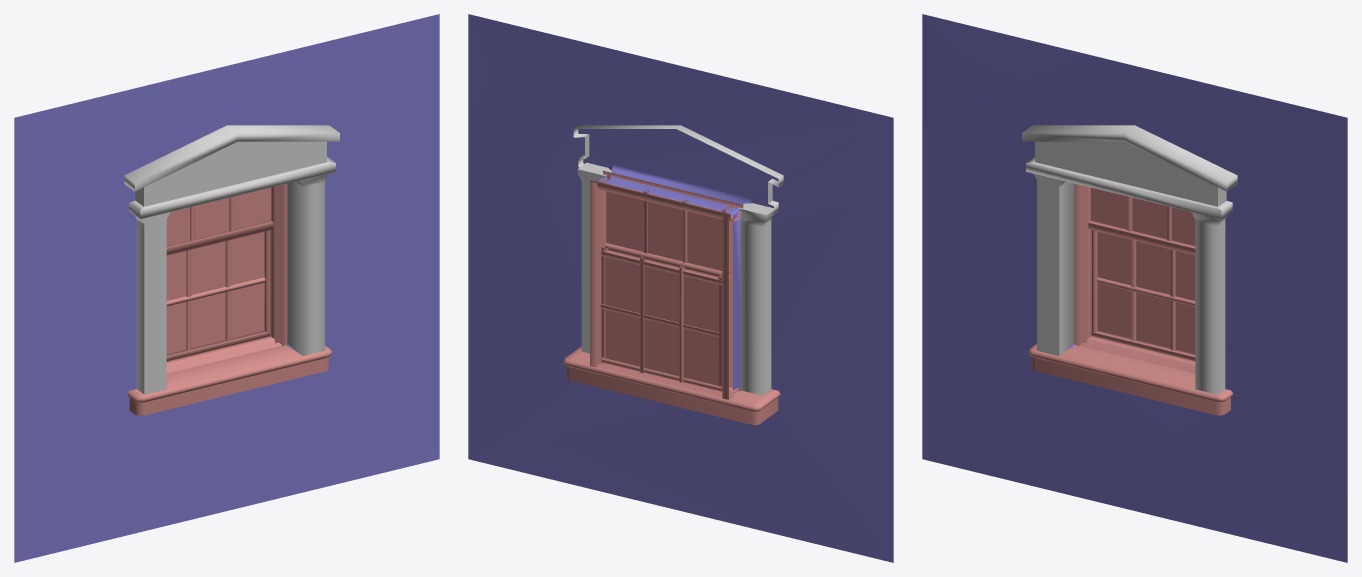
File: window_08.fbx
3 renders of one model, left to right at view 1: azimuth 30°, elevation 25°; view 2: azimuth 150°, elevation 25°; view 3: azimuth 330°, elevation 25°, orthographic.
Visible parts, largest first — view 1: Plane.027, Plane.028, Cube.042; view 2: Plane.027, Plane.028, Cube.042; view 3: Plane.027, Plane.028, Cube.042.
Part boxes in pixels (left/top/right/bottom): Plane.027: left=14, top=14, right=439, bottom=562; Plane.028: left=127, top=183, right=331, bottom=415; Cube.042: left=124, top=125, right=339, bottom=394; Plane.027: left=468, top=14, right=893, bottom=562; Plane.028: left=563, top=170, right=780, bottom=425; Cube.042: left=573, top=125, right=783, bottom=395; Plane.027: left=922, top=14, right=1347, bottom=562; Plane.028: left=1028, top=183, right=1232, bottom=415; Cube.042: left=1022, top=125, right=1237, bottom=394.
Size of the model in its own units: 4 by 4 by 0.5439.
